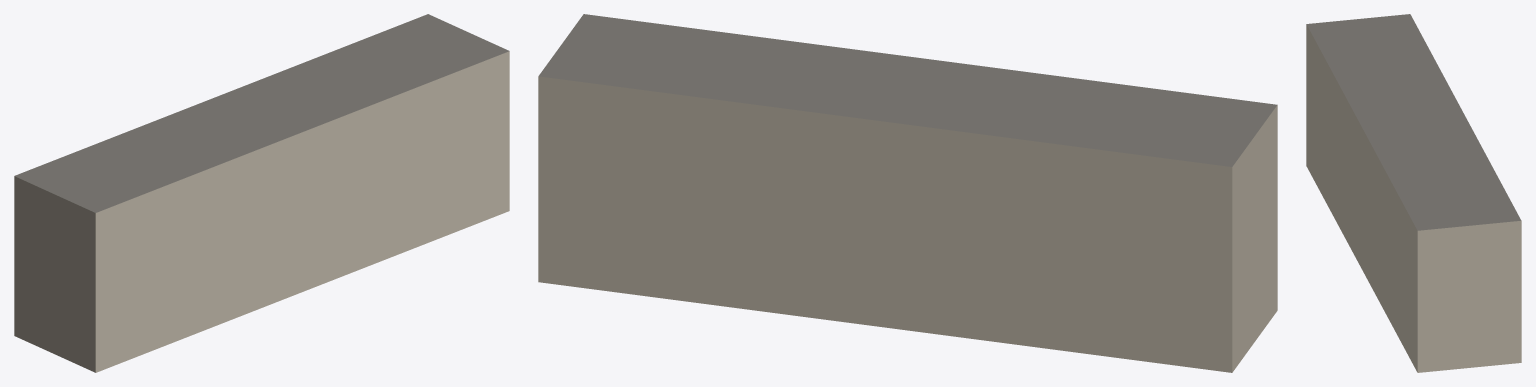
3 views of the same model, side by side, from view 1: azimuth 30°, elevation 25°; view 2: azimuth 150°, elevation 25°; view 3: azimuth 270°, elevation 25° (orthographic). The views are drawn at different scales.
Parts seen in each view (by area): view 1: HP-w372180492; view 2: HP-w372180492; view 3: HP-w372180492.
Boxes of the visible parts, x1=… form: HP-w372180492: x1=14, y1=14, x2=509, y2=372; HP-w372180492: x1=538, y1=14, x2=1277, y2=372; HP-w372180492: x1=1306, y1=14, x2=1521, y2=372.
Bounding box in the file's own units: 58.87 × 18 × 24.67.
